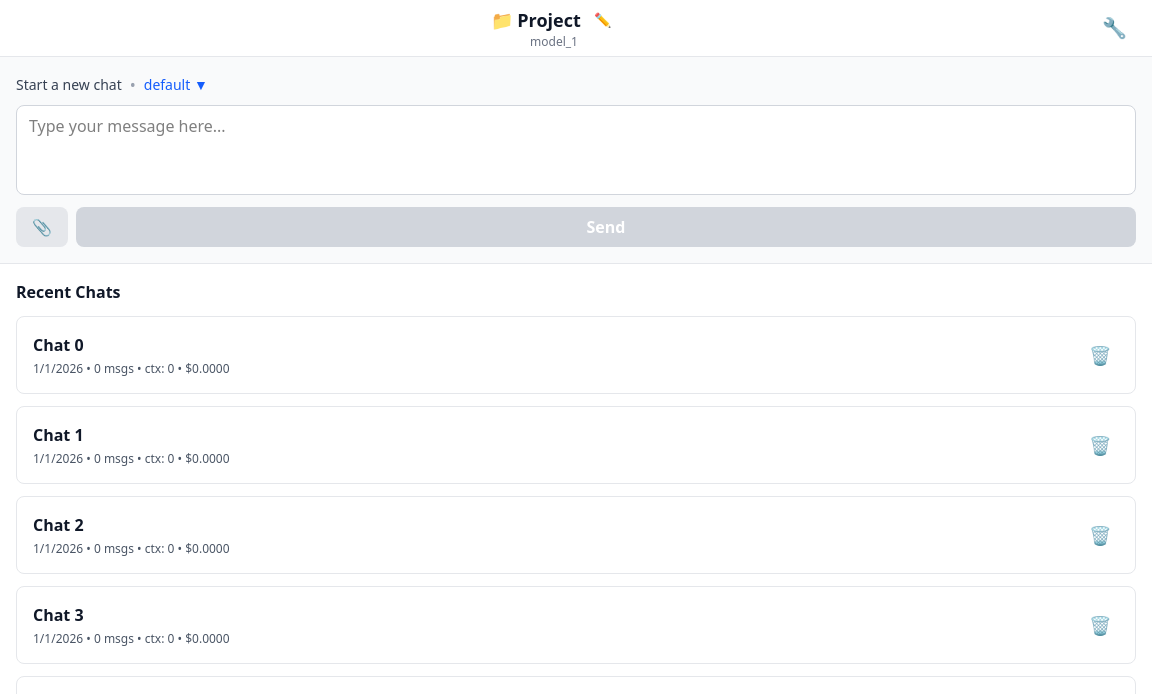
ProjectView › navigates to settings once, from the menu click, under StrictMode
Expected: the heading "Chat 0" is shown, [33,334,84,356]
Click the button "🔧".
click(1114, 28)  # box [1092,6,1136,50]
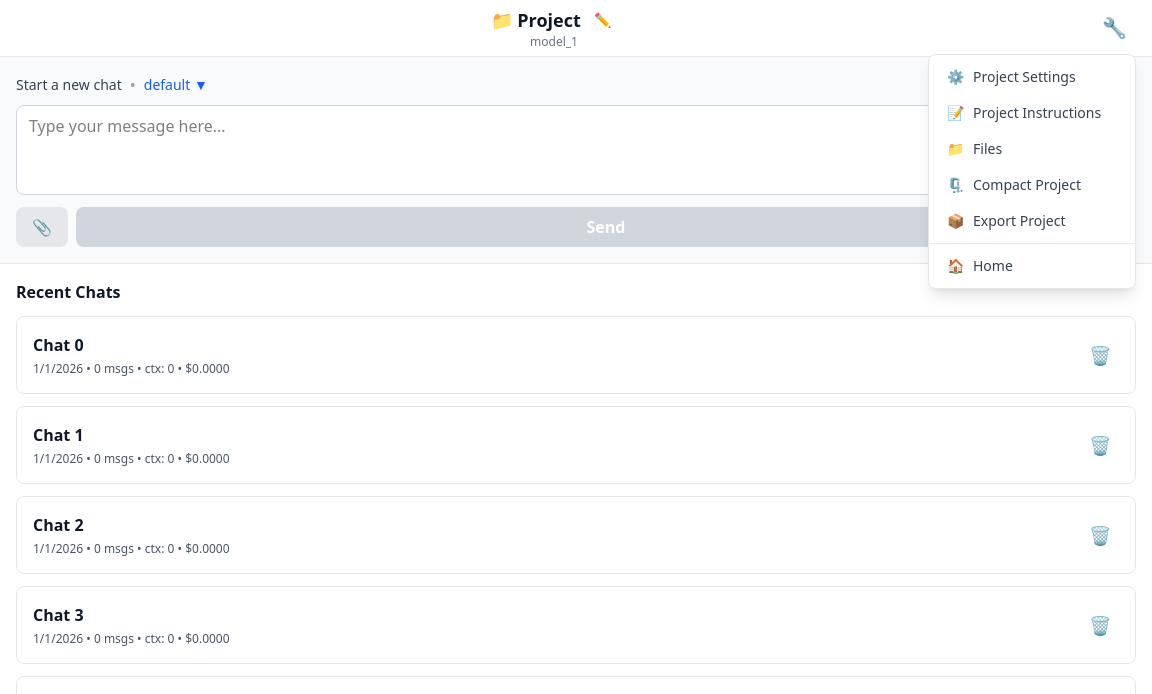
Click the text "Project Settings".
click(1024, 77)  # box [973,67,1076,87]
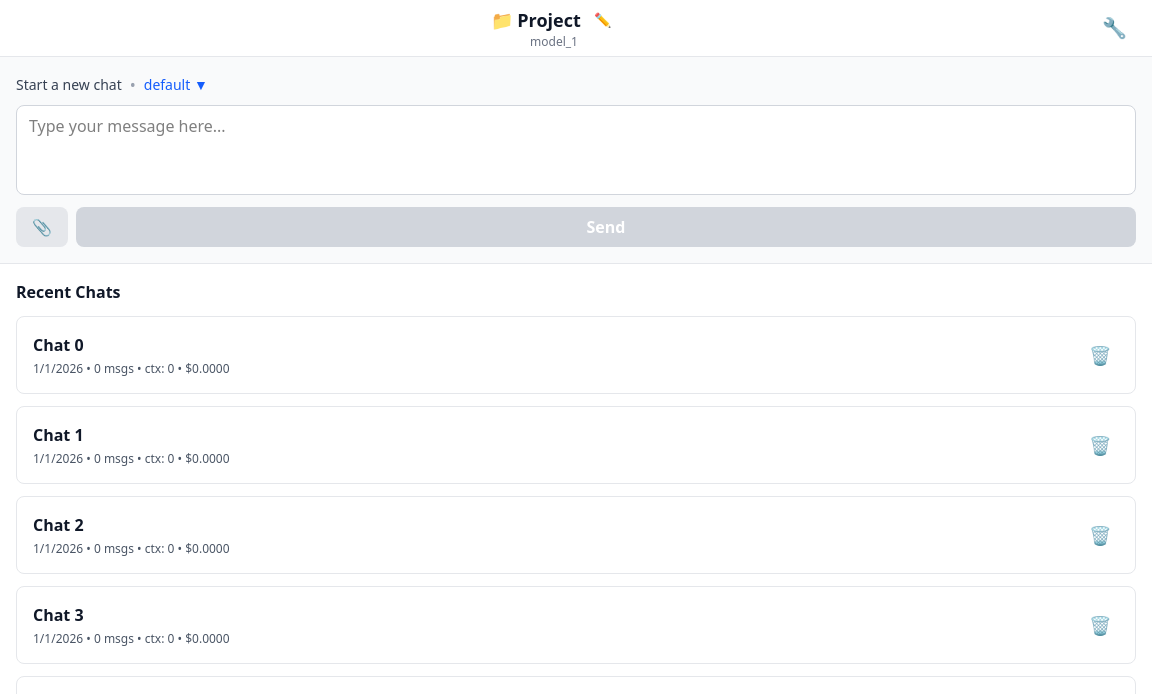
Result: the menu item "Project Settings" is gone
